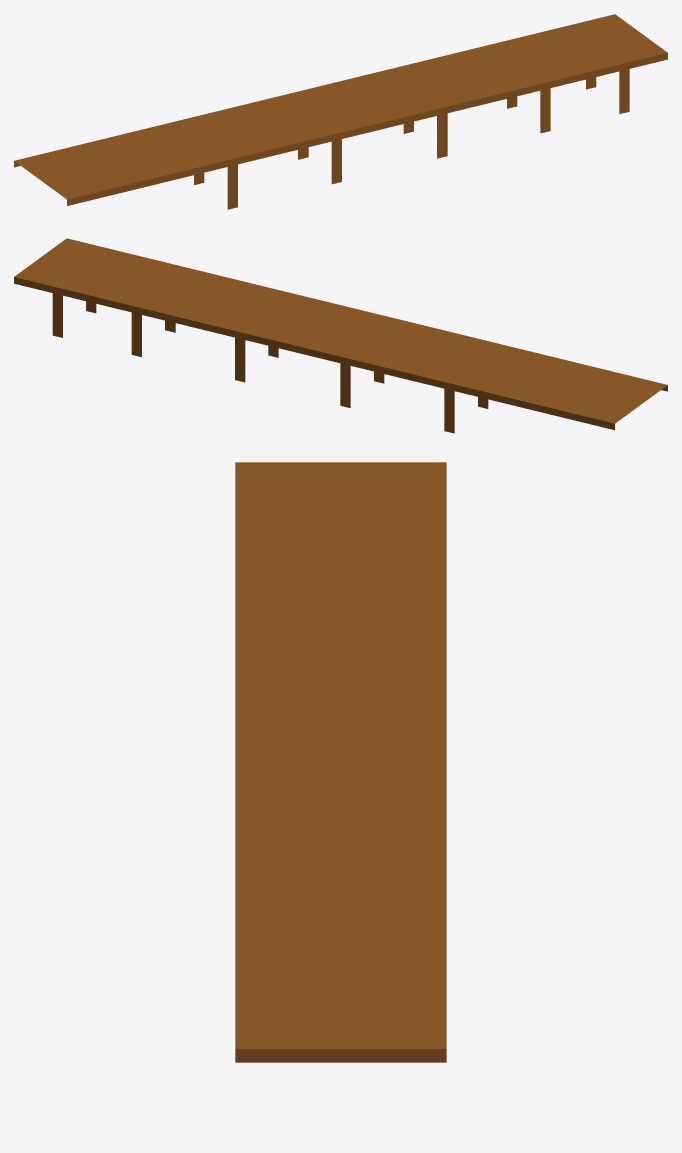
File: DockA.fbx
The picture shows the model from 3 angles, top to bottom: view 1: azimuth 30°, elevation 25°; view 2: azimuth 150°, elevation 25°; view 3: azimuth 270°, elevation 25°; orthographic projection. The views are drawn at different scales.
Parts seen in each view (by area): view 1: DockA; view 2: DockA; view 3: DockA.
Part boxes in pixels (x1,y1,x2,y2): DockA: (14, 14, 667, 209); DockA: (14, 238, 667, 433); DockA: (235, 462, 446, 1062).
Size of the model in its own units: 3552 by 332 by 541.
Materials: 1 (1 with a texture image).
